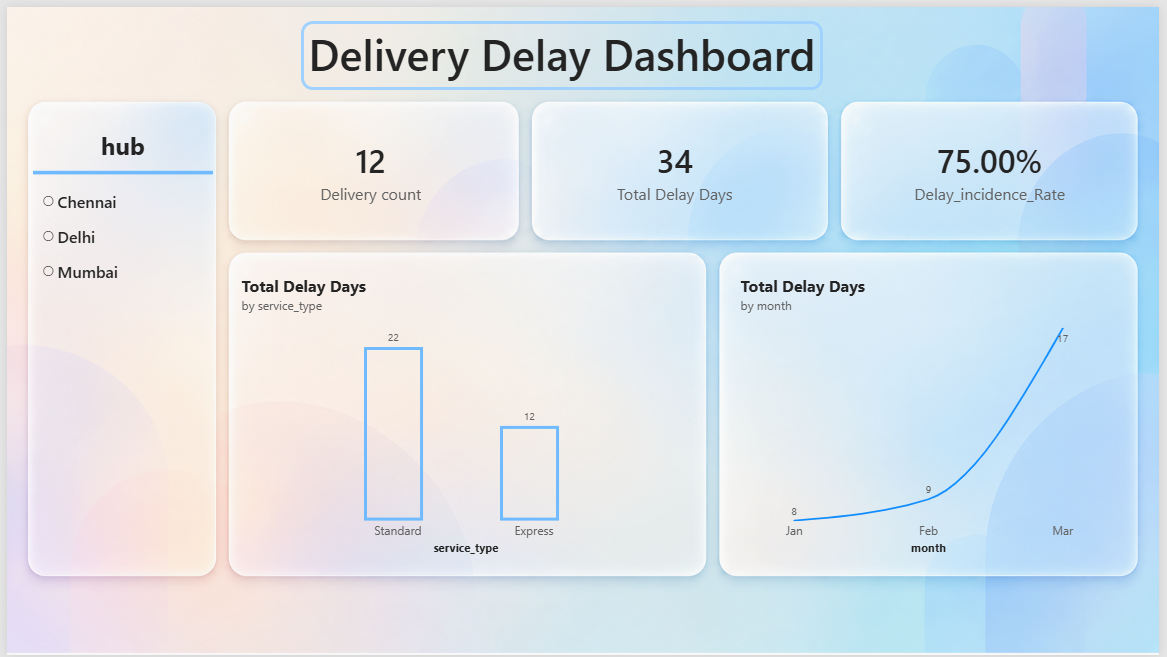

This screenshot's page, from the dashboard's own definition file:
{"tool":"powerbi","page":{"name":"Page 1","canvas":[1920,1080],"ordinal":0},"visuals":[{"type":"cardVisual","fields":{"Data":["Measure_.Delivery_count"]},"box":[453.3,190,306.3,168.8],"z":0},{"type":"cardVisual","fields":{"Data":["Measure_.Total_delay_Days"]},"box":[960,190,306.3,168.8],"z":1000},{"type":"cardVisual","fields":{"Data":["Measure_.Delay_incidence_Rate"]},"box":[1485,190,306.3,168.8],"z":2000},{"type":"clusteredColumnChart","title":"Total Delay Days","fields":{"Category":["routes.service_type"],"Y":["Measure_.Total_delay_Days"]},"box":[375,431.7,780,498.3],"z":3000},{"type":"lineChart","title":"Total Delay Days","fields":{"Category":["deliveries.month"],"Y":["Measure_.Total_delay_Days"]},"box":[1206.7,431.7,658.3,498.3],"z":4000},{"type":"listSlicer","fields":{"Values":["deliveries.hub"]},"box":[43.3,190,300,385],"z":4001},{"type":"textbox","box":[490,23.3,870,115],"z":4002}]}

Visuals, with their boxes in screenshot pixels (x1, y1, x2, y2), scaled from the page's 1920x1080 canvas onto the 1167x657 screenshot:
cardVisual - Measure_.Delivery_count: bbox=(276, 116, 462, 218)
cardVisual - Measure_.Total_delay_Days: bbox=(584, 116, 770, 218)
cardVisual - Measure_.Delay_incidence_Rate: bbox=(903, 116, 1089, 218)
"Total Delay Days" clusteredColumnChart: bbox=(228, 263, 702, 566)
"Total Delay Days" lineChart: bbox=(733, 263, 1134, 566)
listSlicer - deliveries.hub: bbox=(26, 116, 209, 350)
textbox: bbox=(298, 14, 827, 84)
